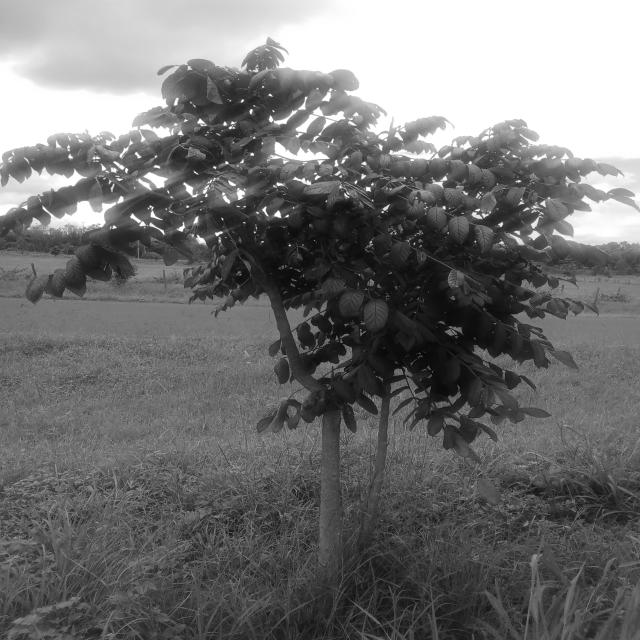Polyscias Kikuyensis: (2, 35, 635, 577)
